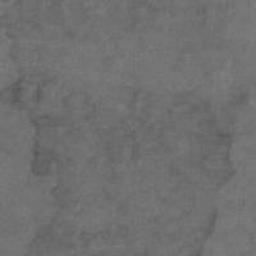Water spot: (0, 0, 238, 256)
